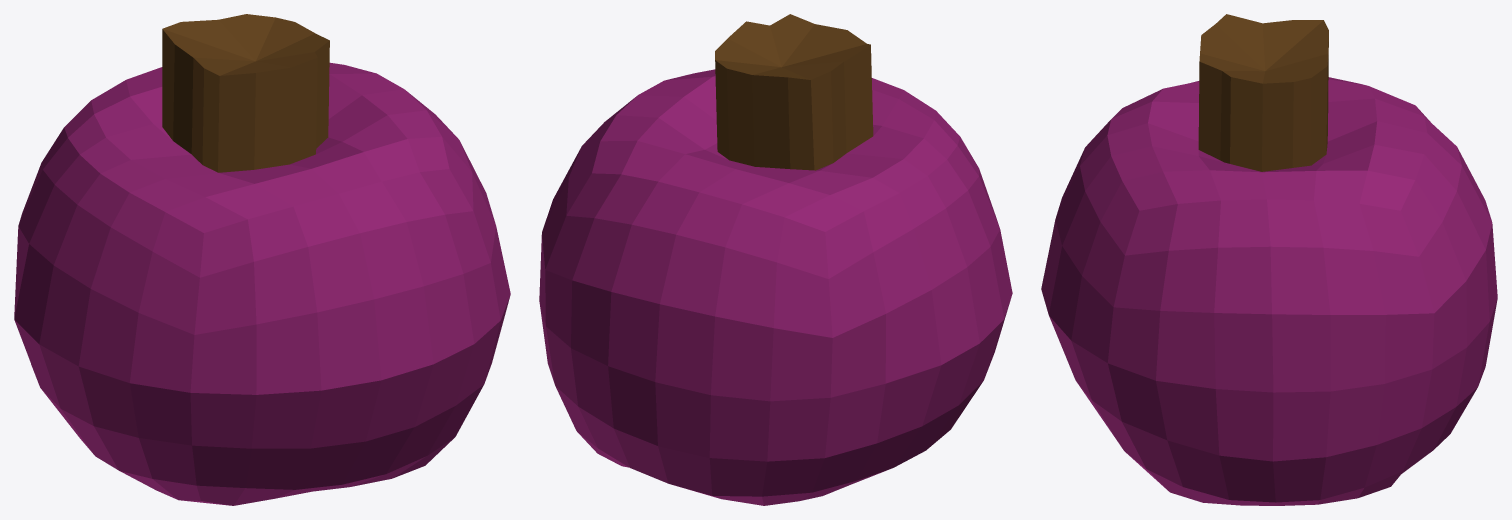
The model's file is Fruit.fbx.
3 renders of one model, left to right at view 1: azimuth 30°, elevation 25°; view 2: azimuth 150°, elevation 25°; view 3: azimuth 270°, elevation 25°, orthographic. The views are drawn at different scales.
Visible parts, largest first — view 1: Fruit; view 2: Fruit; view 3: Fruit.
Part boxes in pixels (box(x1,y1,x2,y2)): Fruit: box(14, 14, 510, 505); Fruit: box(539, 14, 1012, 505); Fruit: box(1041, 14, 1497, 505).
Bounding box in the file's own units: 7.04 × 6.77 × 6.98.
